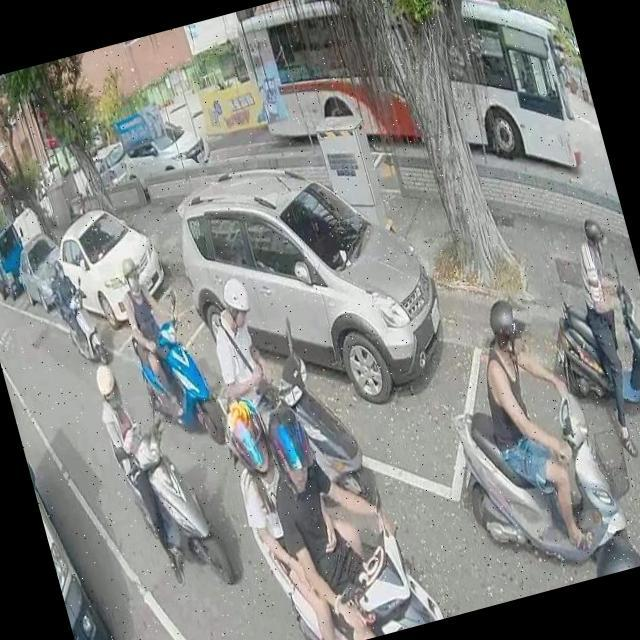person: (216, 366, 386, 640), (247, 380, 426, 640), (459, 277, 613, 568), (89, 348, 194, 594), (559, 219, 640, 454), (110, 245, 202, 420), (200, 272, 283, 423), (46, 258, 92, 346), (583, 519, 640, 577), (552, 38, 572, 86)
